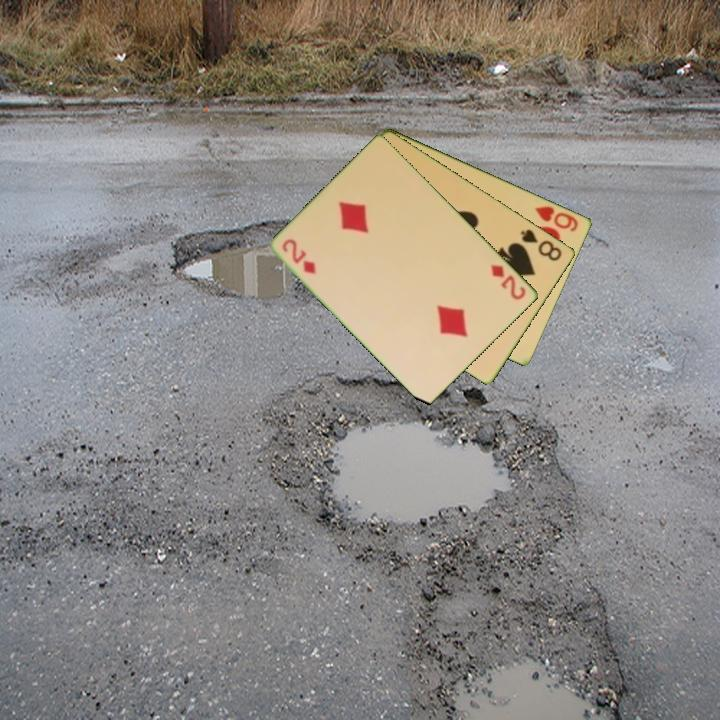2d: (487, 261, 529, 303), (279, 235, 319, 277)
6h: (532, 202, 581, 234)
8s: (517, 225, 565, 264)
